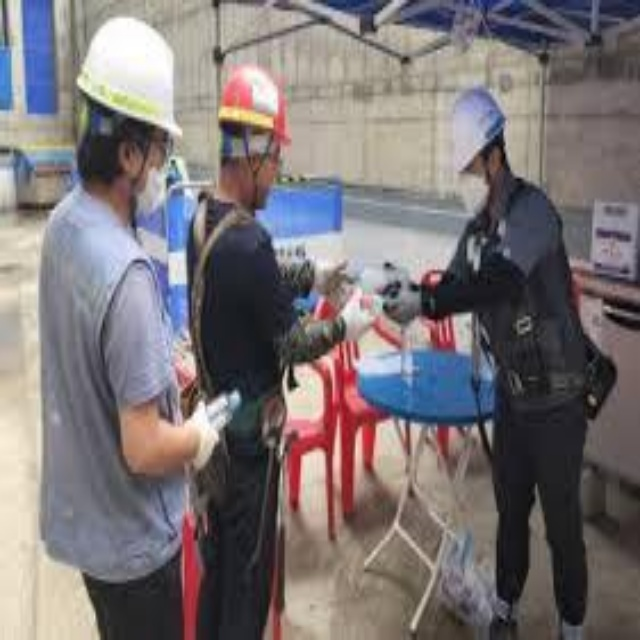Arnes_seguridad: (182, 192, 284, 565)
